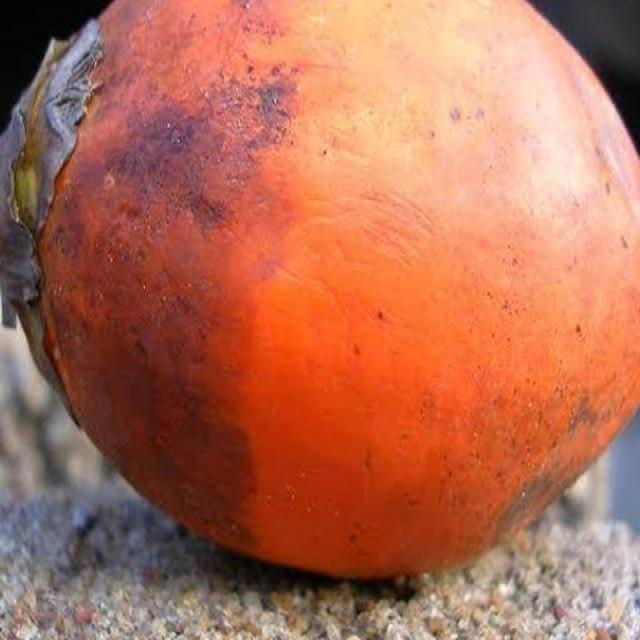good: (0, 0, 639, 584)
